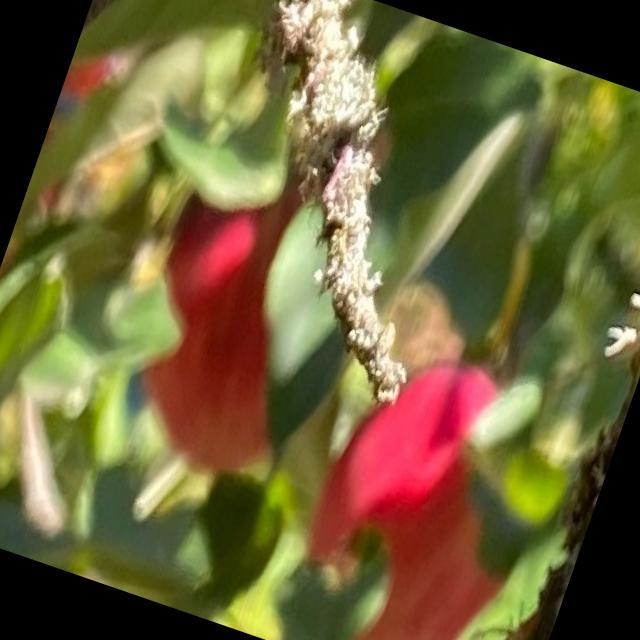100-_ripeness: (265, 328, 587, 639), (102, 158, 354, 487)
